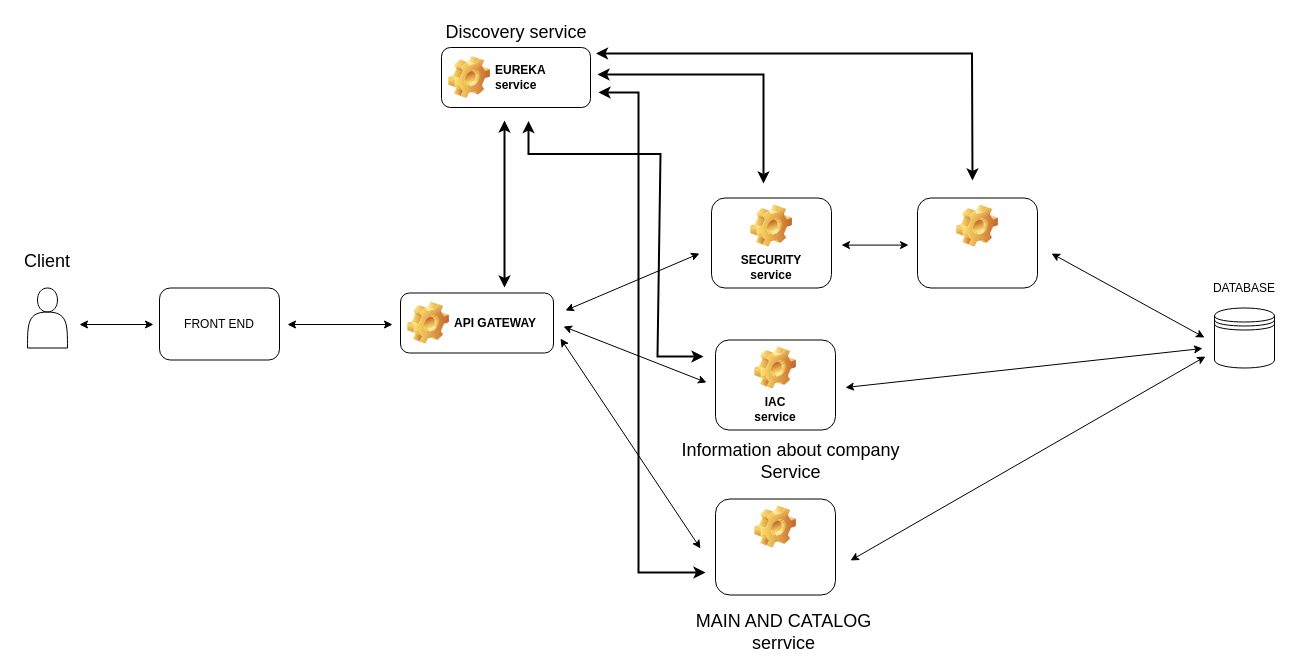
Image size: 1292x670. Some labels were removed from this diagram. Here are the shapes that lost their labels. From the top down, the centre of each, then its label:
At pixel 977 242: "ADMIN service".
At pixel 775 546: "MAC service".
